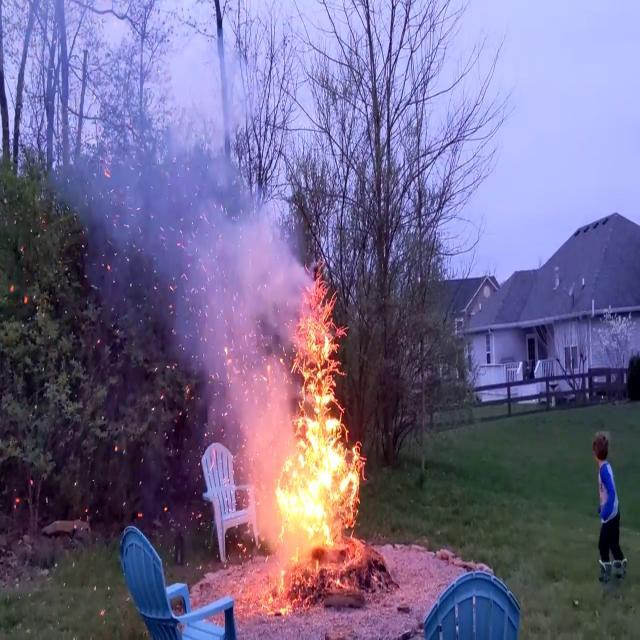Fire: (270, 284, 370, 562)
Smoke: (64, 5, 316, 464)
